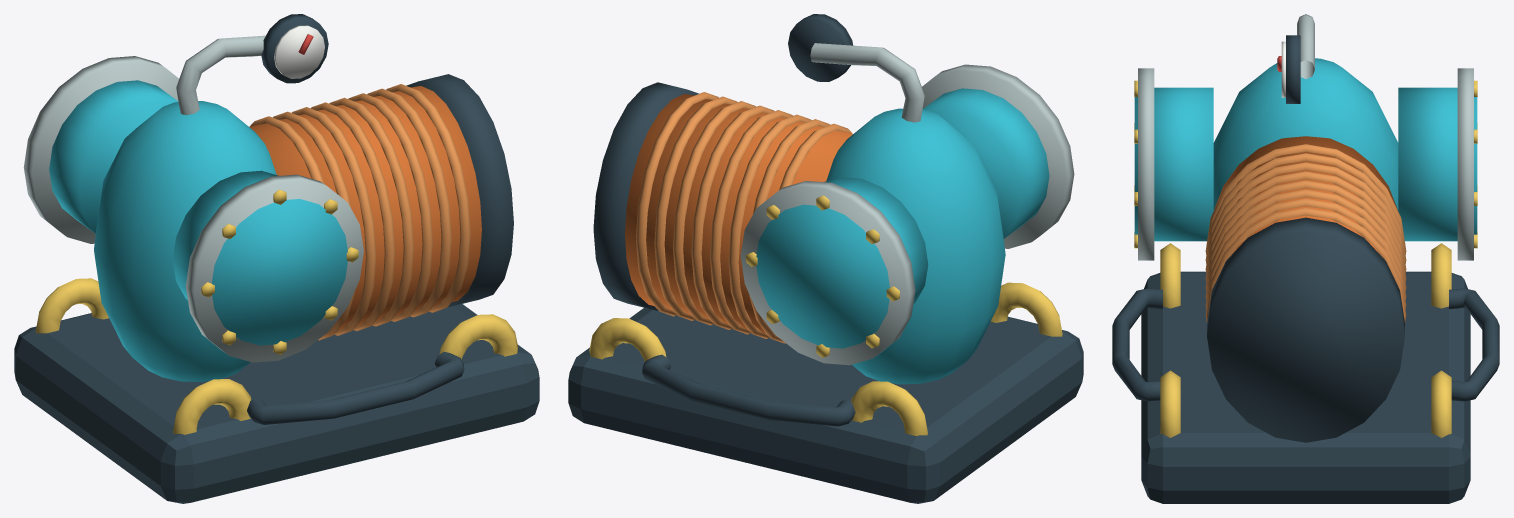
File: pump.glb
The picture shows the model from 3 angles, left to right: view 1: azimuth 30°, elevation 25°; view 2: azimuth 150°, elevation 25°; view 3: azimuth 270°, elevation 25°; orthographic projection.
Visible parts, largest first — view 1: tyaga-pump-small-surface; view 2: tyaga-pump-small-surface; view 3: tyaga-pump-small-surface.
Boxes of the visible parts, box(x1,y1,x2,y2) form: tyaga-pump-small-surface: box(14, 14, 539, 503); tyaga-pump-small-surface: box(568, 14, 1083, 503); tyaga-pump-small-surface: box(1112, 14, 1499, 503).
Size of the model in its own units: 1 by 1 by 0.9.
